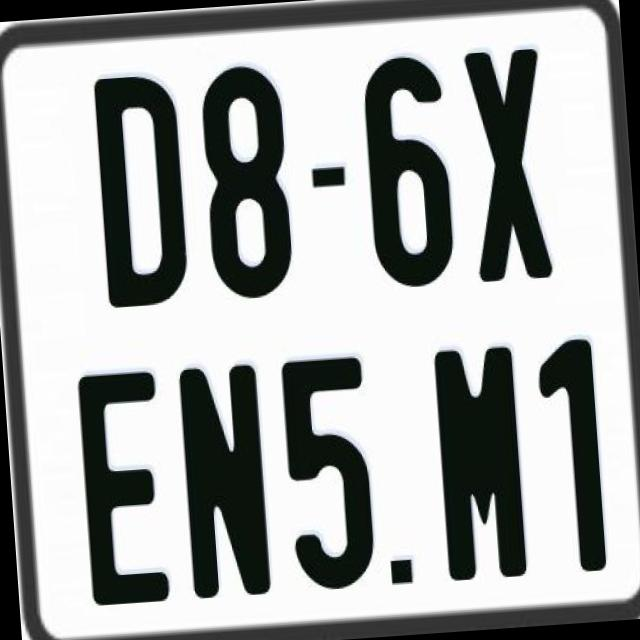1: (534, 338, 612, 576)
5: (276, 353, 378, 593)
6: (356, 55, 458, 294)
8: (198, 60, 302, 304)
D: (93, 69, 192, 309)
E: (74, 369, 168, 614)
M: (432, 344, 533, 584)
N: (174, 362, 268, 604)
X: (461, 46, 556, 286)
